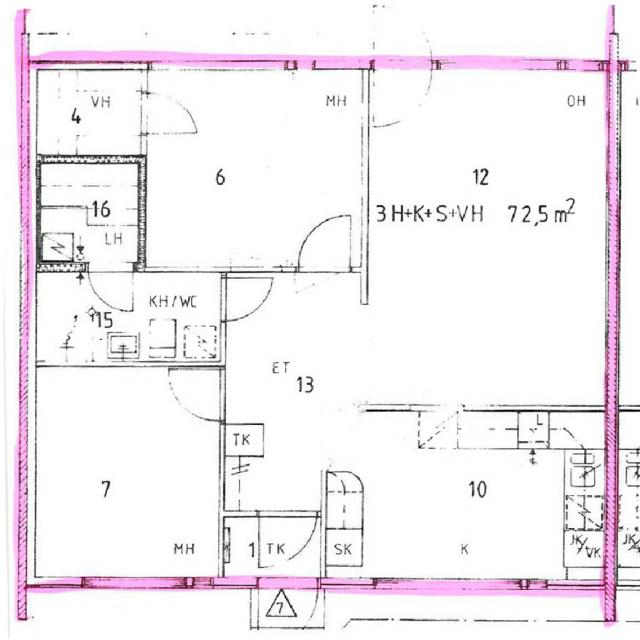door: (374, 1, 431, 70), (374, 60, 431, 129), (260, 511, 315, 574), (299, 212, 350, 272), (170, 369, 226, 419), (88, 261, 133, 319), (219, 279, 268, 321), (140, 93, 186, 133)
